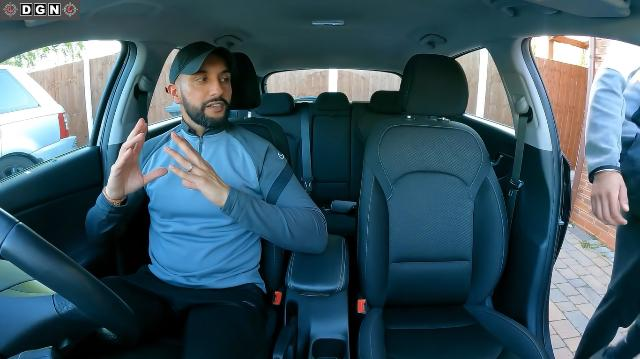no seatbelt: (87, 82, 297, 304)
